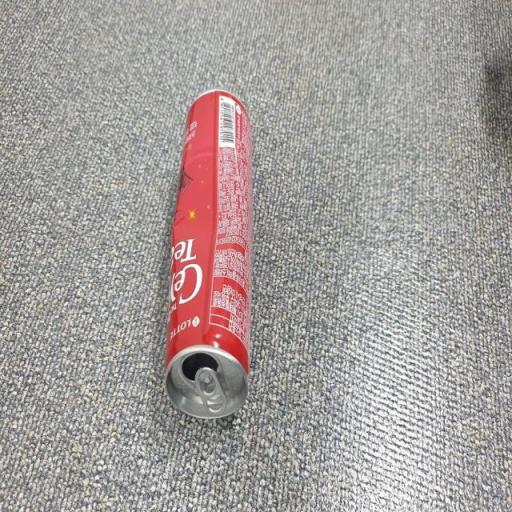metal: (155, 66, 262, 436)
